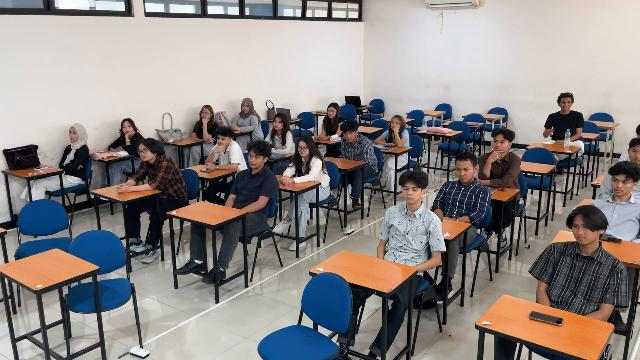fokus: (572, 219, 594, 245), (611, 176, 631, 194), (403, 185, 420, 203), (456, 165, 472, 182), (493, 137, 507, 152), (248, 151, 261, 167), (139, 145, 150, 160), (630, 148, 640, 163), (69, 128, 78, 142), (217, 135, 228, 146), (343, 131, 354, 142), (123, 122, 133, 134), (298, 144, 308, 156), (274, 118, 283, 130), (391, 119, 400, 129), (202, 108, 210, 119), (328, 108, 336, 118), (242, 103, 249, 113)
